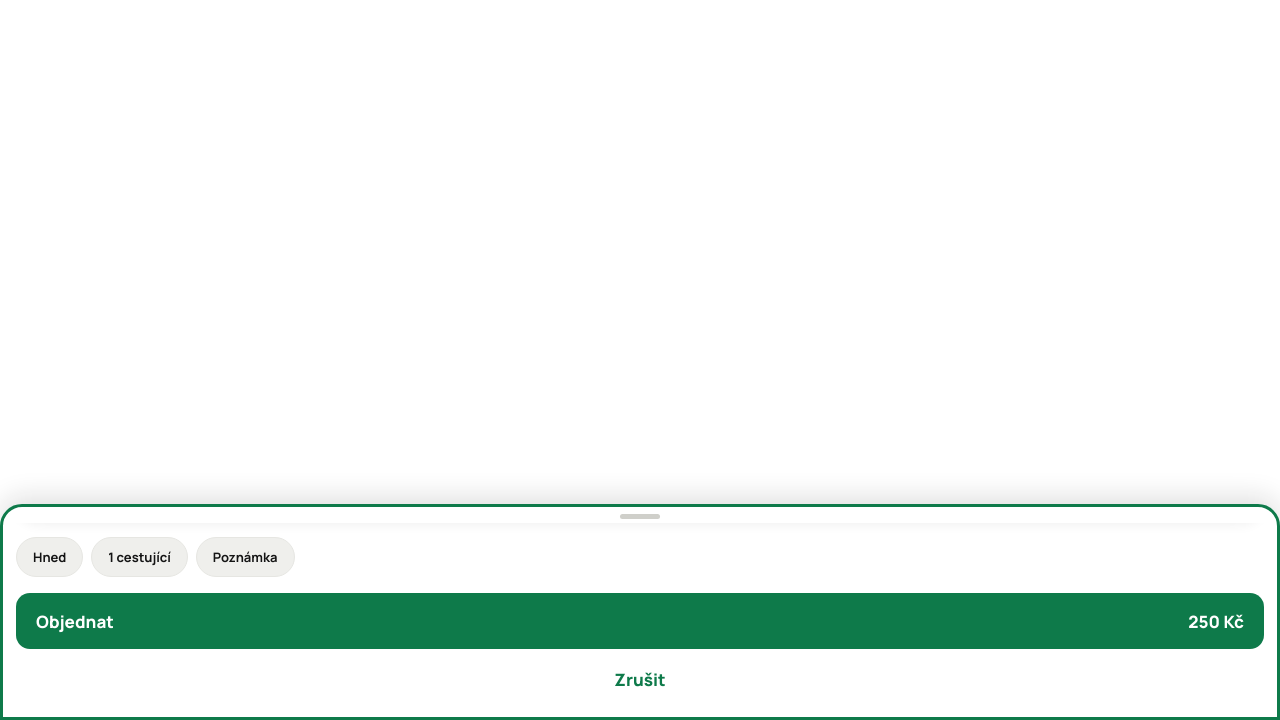
Test: PriceSheet › shows an error and stays on the sheet when create fails
(page scrolled)
Step 1. Click the button "Objednat 250 Kč" → (75, 621), box [16,593,1264,649]
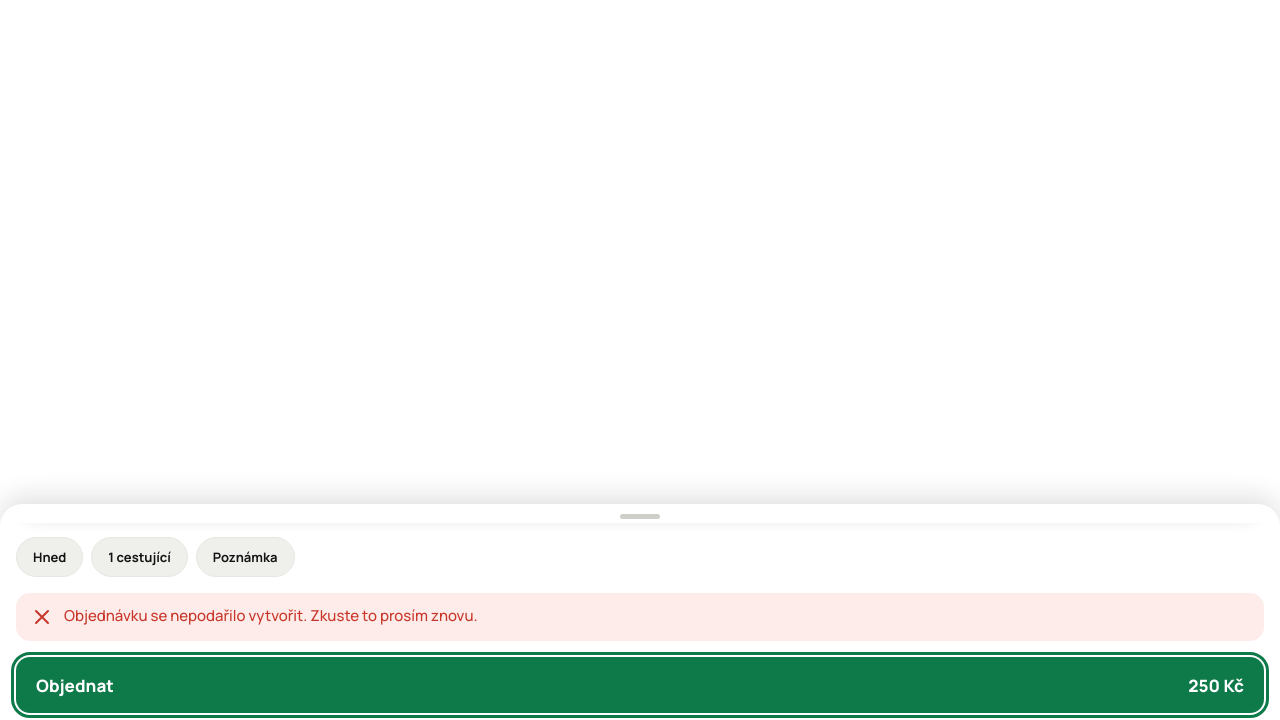
Now the message reads "Objednávku se nepodařilo vytvořit. Zkuste to prosím znovu.", box [64,605,478,626]
